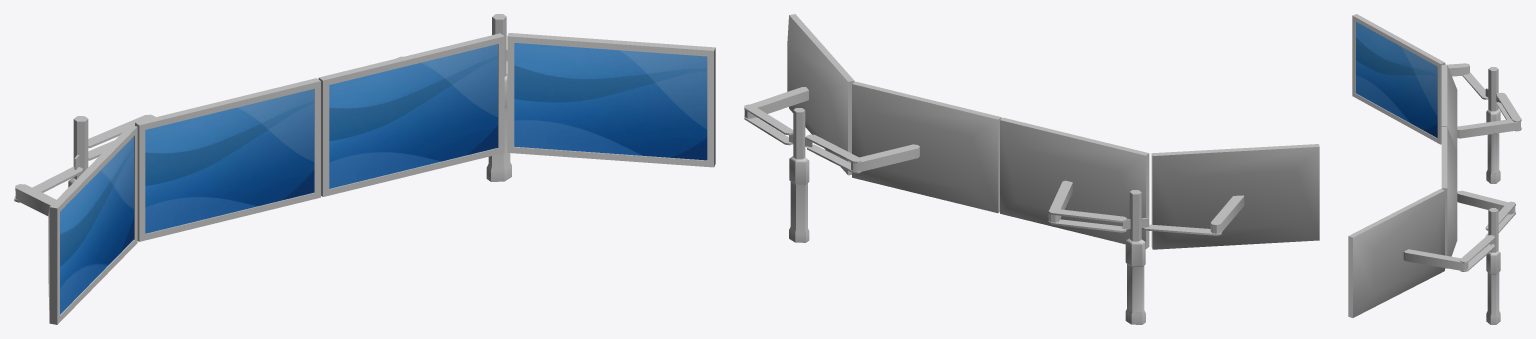
File: Office_ComputerMonitor_2_4x1.fbx
3 renders of one model, left to right at view 1: azimuth 30°, elevation 25°; view 2: azimuth 150°, elevation 25°; view 3: azimuth 270°, elevation 25°, orthographic. The views are drawn at different scales.
Visible parts, largest first — view 1: Office_ComputerMonitor_2_4x1, Scrn44, Scrn42, Scrn43, Scrn41; view 2: Office_ComputerMonitor_2_4x1; view 3: Office_ComputerMonitor_2_4x1, Scrn41.
Boxes of the visible parts, x1,y1,x2,y2 form: Office_ComputerMonitor_2_4x1: [14, 14, 715, 324]; Scrn44: [514, 43, 707, 160]; Scrn42: [145, 89, 314, 233]; Scrn43: [329, 44, 497, 188]; Scrn41: [60, 136, 133, 314]; Office_ComputerMonitor_2_4x1: [744, 14, 1319, 324]; Office_ComputerMonitor_2_4x1: [1348, 14, 1521, 324]; Scrn41: [1356, 22, 1437, 137].
Bounding box in the file's own units: 188 × 47.94 × 61.55.
